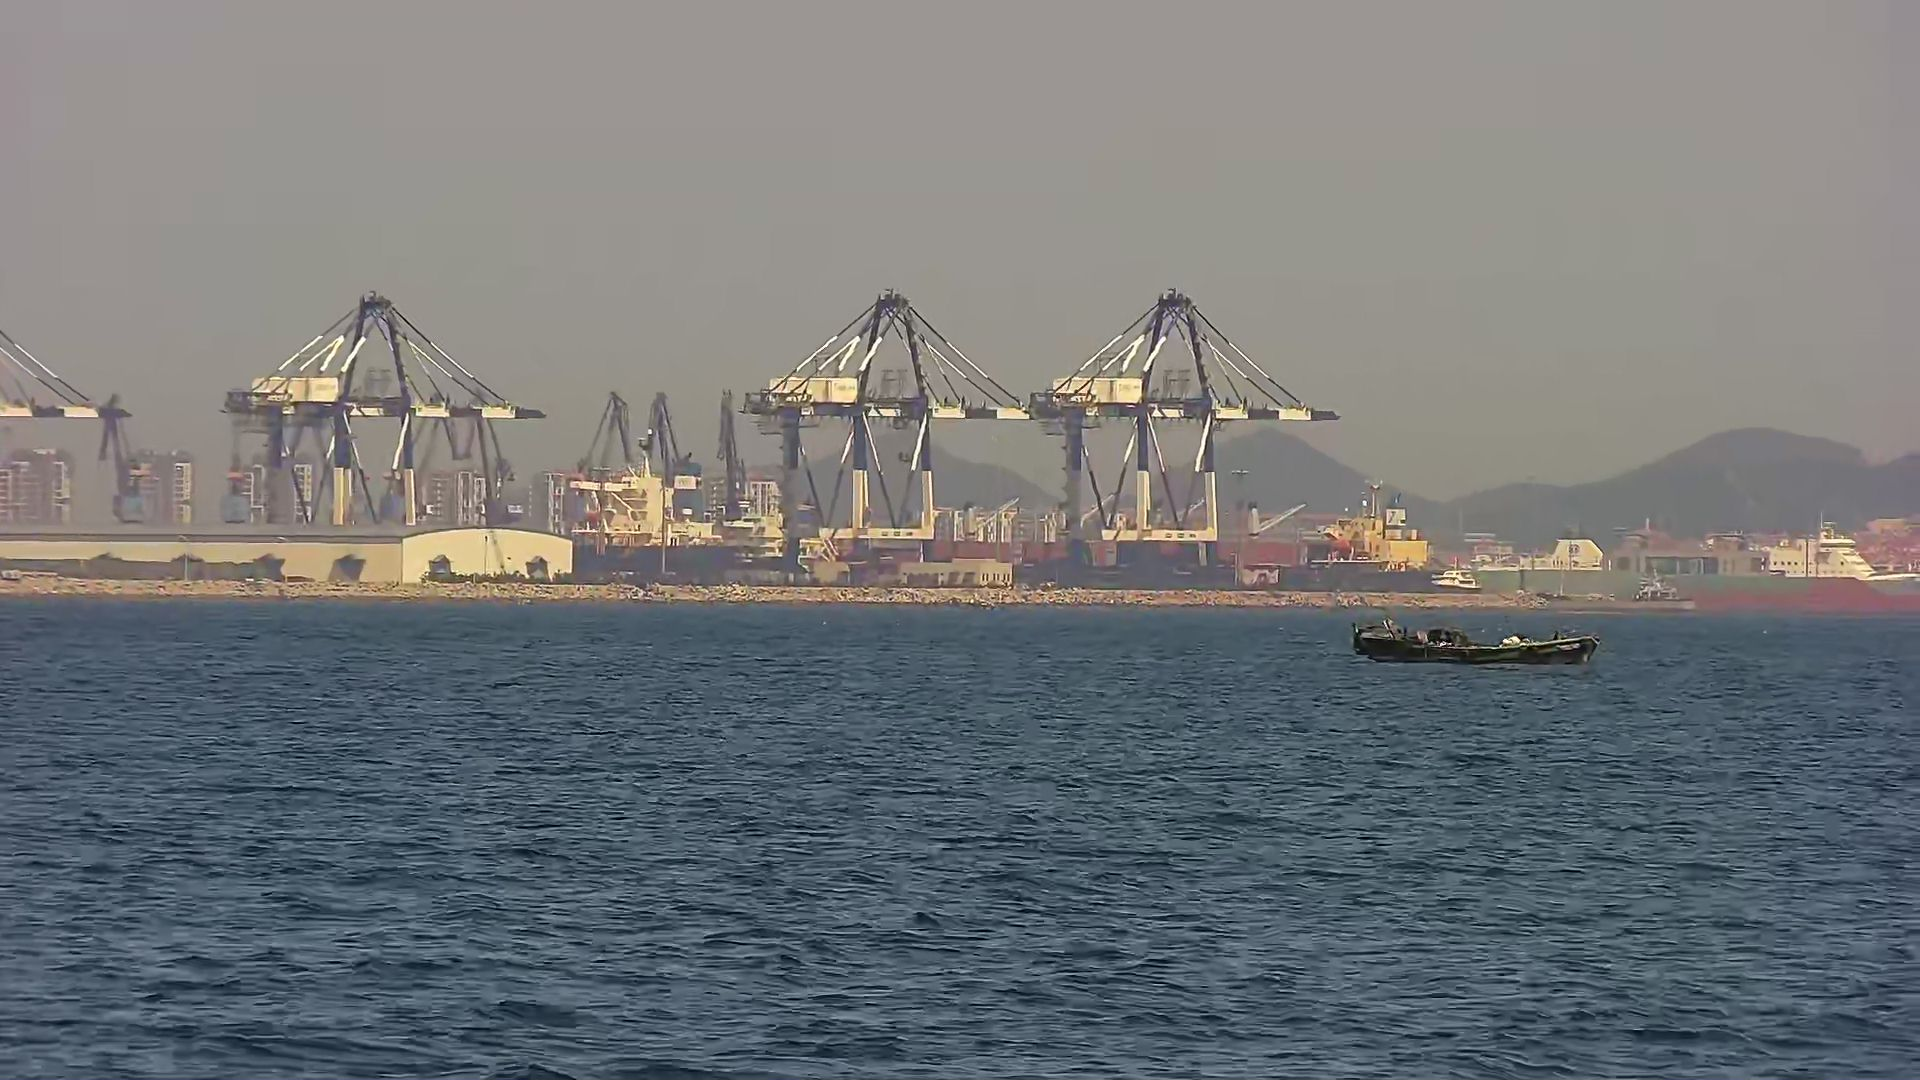boat: (1352, 616, 1604, 669)
